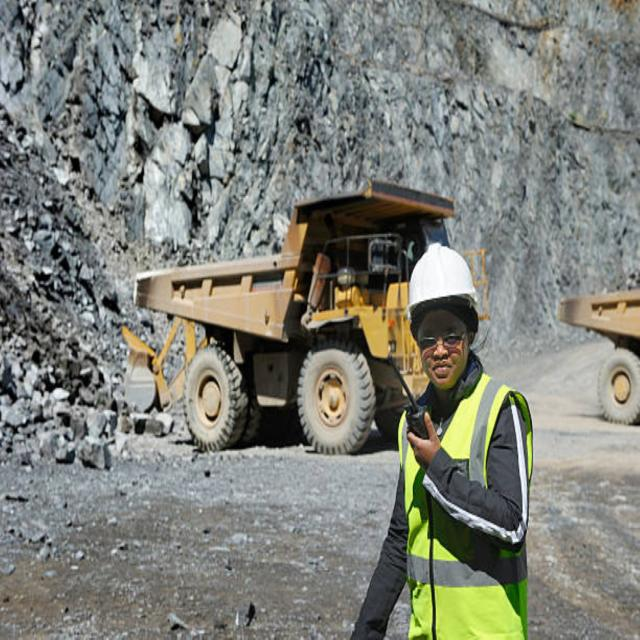dump_truck: (132, 164, 476, 484), (550, 255, 640, 429)
